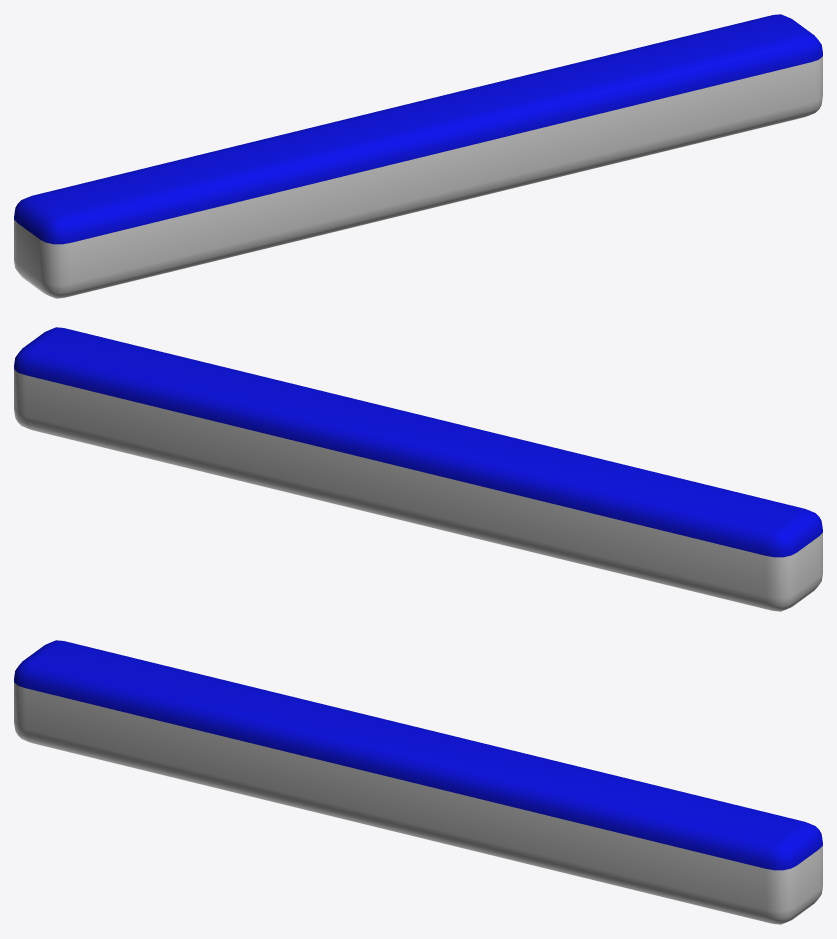
Rendered from plank1M.fbx.
3 renders of one model, top to bottom at view 1: azimuth 30°, elevation 25°; view 2: azimuth 150°, elevation 25°; view 3: azimuth 330°, elevation 25°, orthographic.
Visible parts, largest first — view 1: Cube; view 2: Cube; view 3: Cube.
Boxes of the visible parts, x1=… form: Cube: x1=14, y1=14, x2=822, y2=298; Cube: x1=14, y1=327, x2=822, y2=611; Cube: x1=14, y1=640, x2=822, y2=924.
Bounding box in the file's own units: 1 × 0.1 × 0.1.
